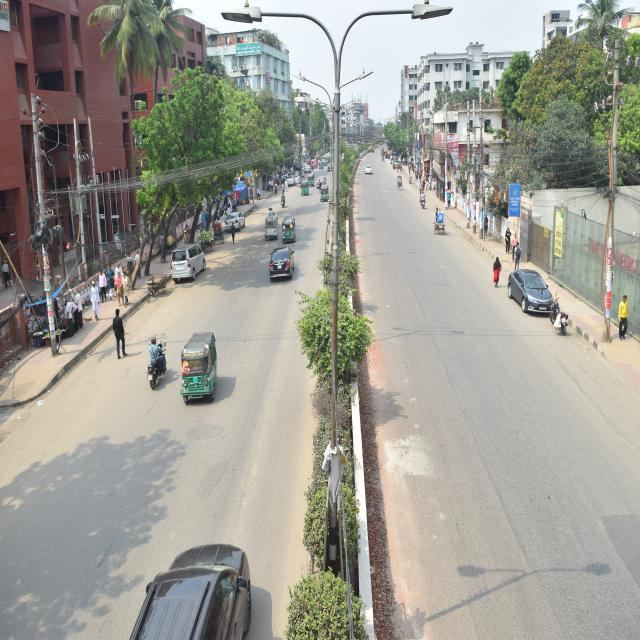car: (503, 263, 555, 318), (165, 244, 209, 288), (260, 243, 300, 289), (226, 203, 248, 231), (364, 160, 375, 176), (286, 170, 296, 187)
motorbike: (542, 279, 574, 349), (132, 336, 168, 396), (417, 187, 432, 213), (275, 193, 285, 209)
